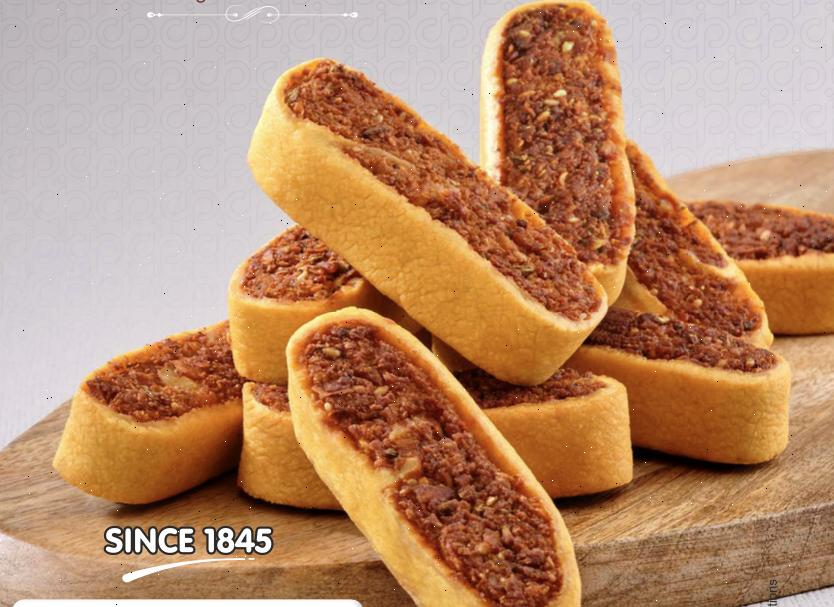bhakarwadi: (54, 8, 831, 504)
